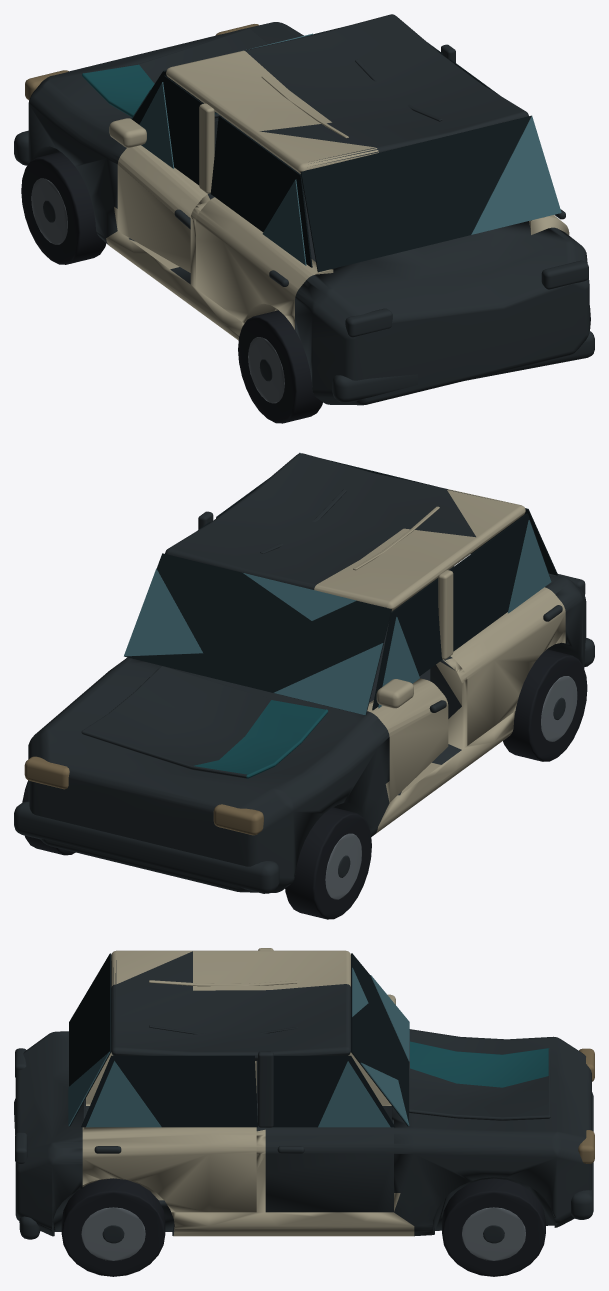
The model's file is vehicle_wrecks_02.glb.
3 views of the same model, one above another, from view 1: azimuth 30°, elevation 25°; view 2: azimuth 150°, elevation 25°; view 3: azimuth 270°, elevation 25° (orthographic). The views are drawn at different scales.
Parts seen in each view (by area): view 1: VehicleWrecks02_Mesh; view 2: VehicleWrecks02_Mesh; view 3: VehicleWrecks02_Mesh.
Part boxes in pixels (x1,y1,x2,y2): VehicleWrecks02_Mesh: (14,14,594,423); VehicleWrecks02_Mesh: (14,452,594,919); VehicleWrecks02_Mesh: (14,948,594,1276).
Bounding box in the file's own units: 1.91 × 1.51 × 3.68.
